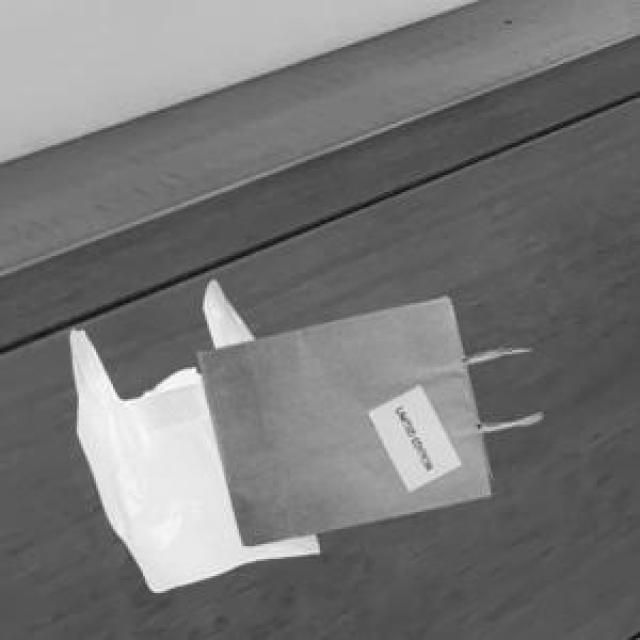paper: (192, 292, 538, 542)
